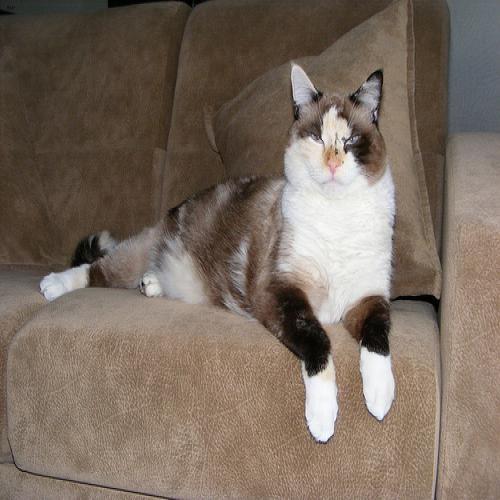ragdoll: (283, 55, 396, 213)
